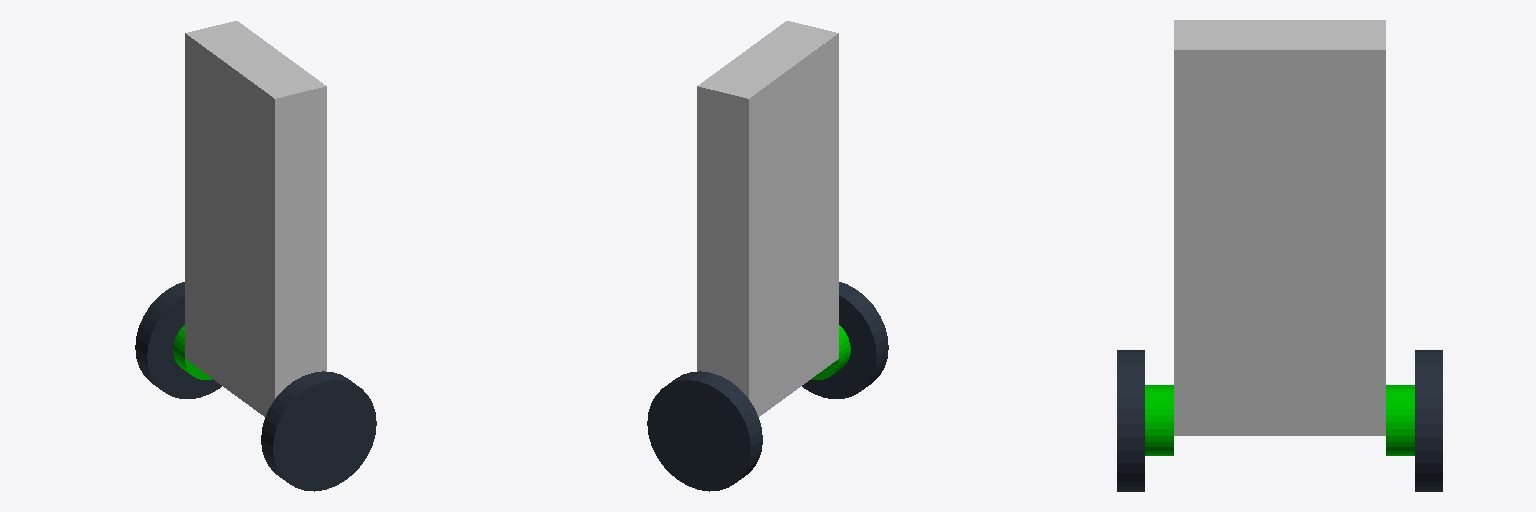
URDF robot description (balancio):
<?xml version="1.0" ?>
<robot name="balancio" xmlns:xacro="http://www.ros.org/wiki/xacro">

  <material name="black">
    <color rgba="0.0 0.0 0.0 0.8"/>
  </material>
  <material name="blue">
    <color rgba="0.203125 0.23828125 0.28515625 0.8"/>
  </material>
  <material name="green">
    <color rgba="0.0 0.8 0.0 0.8"/>
  </material>
  <material name="grey">
    <color rgba="0.8 0.8 0.8 1.0"/>
  </material>
  <material name="orange">
    <color rgba="1.0 0.423529411765 0.0392156862745 1.0"/>
  </material>
  <material name="brown">
    <color rgba="0.870588235294 0.811764705882 0.764705882353 1.0"/>
  </material>
  <material name="red">
    <color rgba="0.80078125 0.12890625 0.1328125 1.0"/>
  </material>
  <material name="white">
    <color rgba="1.0 1.0 1.0 1.0"/>
  </material>


 <!-- Base -->
	<!-- <link name="dummy_link"/>

  <joint name="base_joint" type="fixed">
    <origin rpy="0 0 0" xyz="0 0 0"/>
		<child link="link_chassis"/>
    <parent link="dummy_link"/>
  </joint> -->

  <link name="link_chassis">
    <!-- pose and inertial -->
    <pose>0 0 0 0 0 0</pose>
    <inertial>
      <mass value="0.5"/>
      <origin rpy="0 0 0" xyz="0 0 0"/>
      <inertia ixx="0.03" ixy="0" ixz="0" iyy="0.03" iyz="0" izz="0.03"/>
    </inertial>
    <!-- body -->
    <collision name="collision_chassis">
      <origin rpy="0 0 0" xyz="0 0 0"/>
      <geometry>
        <box size="0.1 0.3 0.6"/>
      </geometry>
    </collision>
    <visual>
      <origin rpy="0 0 0" xyz="0 0 0"/>
      <geometry>
        <box size="0.1 0.3 0.6"/>
        <!-- <mesh filename="package://robot_description/stl/Plank.stl" scale="1 1 1"/> -->
      </geometry>
      <material name="grey"/>
    </visual>
  </link>


<!--Gearbox and Wheels -->
<!-- Left -->

  <joint name="joint_left_gb" type="continuous">  <!-- We set revolute with infinite limits as a workaround to sdf conversion problems -->
    <origin rpy="0 0 0" xyz="0 0.17 -0.3"/>
    <child link="link_left_gb"/>
    <parent link="link_chassis"/>
    <axis rpy="0 0 0" xyz="0 1 0"/>
    <limit effort="0.8" velocity="30"/>
    <dynamics damping="0.0005" friction="0.0005"/>  <!-- damping coefficient: [N*m*s/rad] 0.0005-->
    <safety_controller k_velocity="0.026"/>  <!-- Kv en este caso: Torque/vel (http://wiki.ros.org/pr2_controller_manager/safety_limits) -->
  </joint>

  <link name="link_left_gb">
    <inertial>
      <mass value="0.1"/>
      <origin rpy="0 1.5707 1.5707" xyz="0 0 0"/>
      <inertia ixx="0.0001" ixy="0" ixz="0" iyy="0.00005" iyz="0" izz="0.00005"/>
    </inertial>
    <collision name="link_left_gb_collision">
      <origin rpy="0 1.5707 1.5707" xyz="0 0 0"/>
      <geometry>
        <cylinder length="0.04" radius="0.05"/>
      </geometry>
    </collision>
    <visual name="link_left_gb_visual">
      <origin rpy="0 1.5707 1.5707" xyz="0 0 0"/>
      <geometry>
        <cylinder length="0.04" radius="0.05"/>
      </geometry>
      <material name="green"/>
    </visual>
  </link>

  <joint name="joint_left_wheel" type="revolute">  <!-- We set revolute with infinite limits as a workaround to sdf conversion problems -->
    <limit lower="-0.03055" upper="0.03055" />
    <origin rpy="0 0 0" xyz="0 0.04 0"/>
    <child link="link_left_wheel"/>
    <parent link="link_left_gb"/>
    <axis rpy="0 0 0" xyz="0 1 0"/>
    <limit effort="0.8" velocity="30"/>
    <dynamics damping="0.0005" friction="0.0005"/>  <!-- damping coefficient: [N*m*s/rad] 0.0005-->
    <safety_controller k_velocity="0.026"/>  <!-- Kv en este caso: Torque/vel (http://wiki.ros.org/pr2_controller_manager/safety_limits) -->
  </joint>

  <link name="link_left_wheel">
    <inertial>
      <mass value="0.1"/>
      <origin rpy="0 1.5707 1.5707" xyz="0 0 0"/>
      <inertia ixx="0.0001" ixy="0" ixz="0" iyy="0.00005" iyz="0" izz="0.00005"/>
    </inertial>
    <collision name="link_left_wheel_collision">
      <origin rpy="0 1.5707 1.5707" xyz="0 0 0"/>
      <geometry>
        <cylinder length="0.04" radius="0.1"/>
      </geometry>
    </collision>
    <visual name="link_left_wheel_visual">
      <origin rpy="0 1.5707 1.5707" xyz="0 0 0"/>
      <geometry>
        <cylinder length="0.04" radius="0.1"/>
      </geometry>
      <material name="blue"/>
    </visual>
  </link>


<!-- Right -->

  <joint name="joint_right_gb" type="continuous">  <!-- We set revolute with infinite limits as a workaround to sdf conversion problems -->
    <origin rpy="0 0 0" xyz="0 -0.17 -0.3"/>
    <child link="link_right_gb"/>
    <parent link="link_chassis"/>
    <axis rpy="0 0 0" xyz="0 1 0"/>
    <limit effort="0.8" velocity="30"/>
    <dynamics damping="0.0005" friction="0.0005"/>  <!-- damping coefficient: [N*m*s/rad] 0.0005-->
    <safety_controller k_velocity="0.026"/>  <!-- Kv en este caso: Torque/vel (http://wiki.ros.org/pr2_controller_manager/safety_limits) -->
  </joint>

  <link name="link_right_gb">
    <inertial>
      <mass value="0.1"/>
      <origin rpy="0 1.5707 1.5707" xyz="0 0 0"/>
      <inertia ixx="0.0001" ixy="0" ixz="0" iyy="0.00005" iyz="0" izz="0.00005"/>
    </inertial>
    <collision name="link_right_gb_collision">
      <origin rpy="0 1.5707 1.5707" xyz="0 0 0"/>
      <geometry>
        <cylinder length="0.04" radius="0.05"/>
      </geometry>
    </collision>
    <visual name="link_right_gb_visual">
      <origin rpy="0 1.5707 1.5707" xyz="0 0 0"/>
      <geometry>
        <cylinder length="0.04" radius="0.05"/>
      </geometry>
      <material name="green"/>
    </visual>
  </link>

  <joint name="joint_right_wheel" type="revolute">  <!-- We set revolute with infinite limits as a workaround to sdf conversion problems -->
    <limit lower="-0.03055" upper="0.03055" />
    <origin rpy="0 0 0" xyz="0 -0.04 0"/>
    <child link="link_right_wheel"/>
    <parent link="link_right_gb"/>
    <axis rpy="0 0 0" xyz="0 1 0"/>
		<limit effort="0.8" velocity="30"/>
    <!--<limit effort="0.8" velocity="30"/>-->
  	<dynamics damping="0.0005" friction="0.0005"/>  <!-- damping coefficient: [N*m*s/rad] -->
		<safety_controller k_velocity="0.026"/>  <!-- Kv en este caso: Torque/vel (http://wiki.ros.org/pr2_controller_manager/safety_limits) -->
  </joint>

  <link name="link_right_wheel">
    <inertial>
      <mass value="0.1"/>
      <origin rpy="0 1.5707 1.5707" xyz="0 0 0"/>
      <inertia ixx="0.0001" ixy="0" ixz="0" iyy="0.00005" iyz="0" izz="0.00005"/>
    </inertial>
    <collision name="link_right_wheel_collision">
      <origin rpy="0 1.5707 1.5707" xyz="0 0 0"/>
      <geometry>
        <cylinder length="0.04" radius="0.1"/>
      </geometry>
    </collision>
    <visual name="link_right_wheel_visual">
      <origin rpy="0 1.5707 1.5707" xyz="0 0 0"/>
      <geometry>
        <cylinder length="0.04" radius="0.1"/>
      </geometry>
      <material name="blue"/>
    </visual>
  </link>

</robot>

--- Facts derived from the render (not from the file) ---
3 views of the same robot in one strip: view 1: azimuth 30°, elevation 25°; view 2: azimuth 150°, elevation 25°; view 3: azimuth 270°, elevation 25° (orthographic).
Model balancio with 5 links and 4 joints (2 revolute, 2 continuous), rooted at link_chassis, posed all joints at 0.
Links seen in each view (by area): view 1: link_chassis, link_right_wheel, link_left_wheel, link_left_gb; view 2: link_chassis, link_left_wheel, link_right_wheel, link_right_gb; view 3: link_chassis, link_left_wheel, link_right_wheel, link_left_gb, link_right_gb.
Boxes of the visible links, left/top/right/bottom form: link_chassis: left=185, top=21, right=326, bottom=416; link_right_wheel: left=261, top=371, right=376, bottom=491; link_left_wheel: left=135, top=282, right=221, bottom=398; link_left_gb: left=173, top=325, right=211, bottom=379; link_chassis: left=697, top=21, right=838, bottom=416; link_left_wheel: left=647, top=371, right=762, bottom=491; link_right_wheel: left=802, top=282, right=888, bottom=398; link_right_gb: left=812, top=325, right=850, bottom=379; link_chassis: left=1174, top=20, right=1385, bottom=435; link_left_wheel: left=1415, top=350, right=1442, bottom=491; link_right_wheel: left=1117, top=350, right=1144, bottom=491; link_left_gb: left=1386, top=385, right=1414, bottom=455; link_right_gb: left=1145, top=385, right=1173, bottom=455.
Bounding box of the posed robot: 0.2 × 0.46 × 0.7 m (x, y, z).
Geometry: primitives only (box / cylinder / sphere), no mesh files.